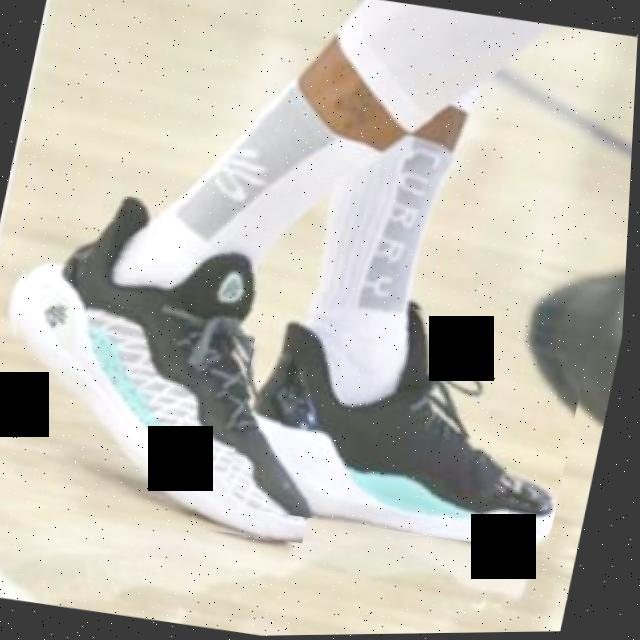shoe: (0, 179, 373, 550), (223, 278, 599, 558)
